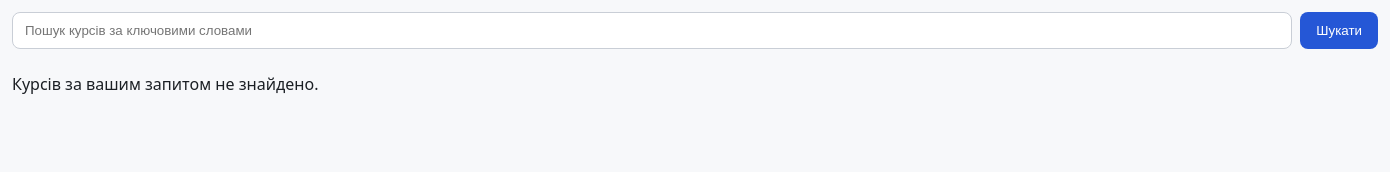
Test case: CatalogPage › зберігає пошуковий запит в адресі
Check: the text "Курсів за вашим запитом не знайдено." is shown, box [12,73,318,95]
In the search field: (652, 30) [12,12,1292,49], type "python"
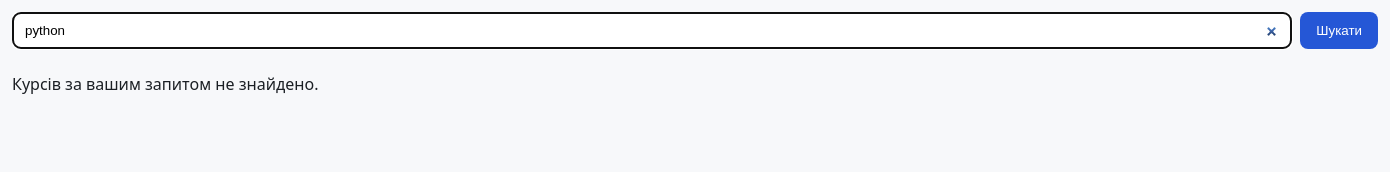
Click the button "Шукати": (1339, 30) [1300,12,1378,49]
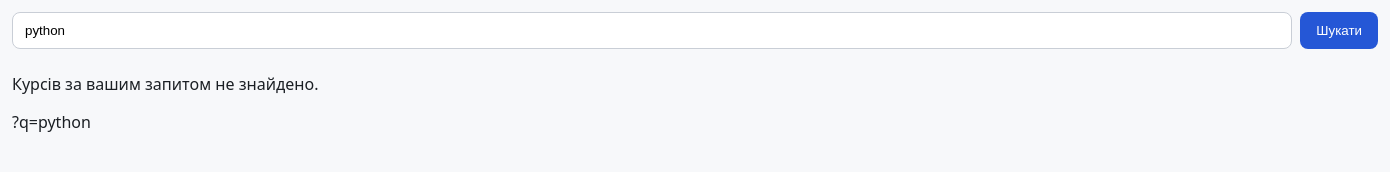
Check: the text with test id "location-search" reads "?q=python", box [12,111,91,133]
